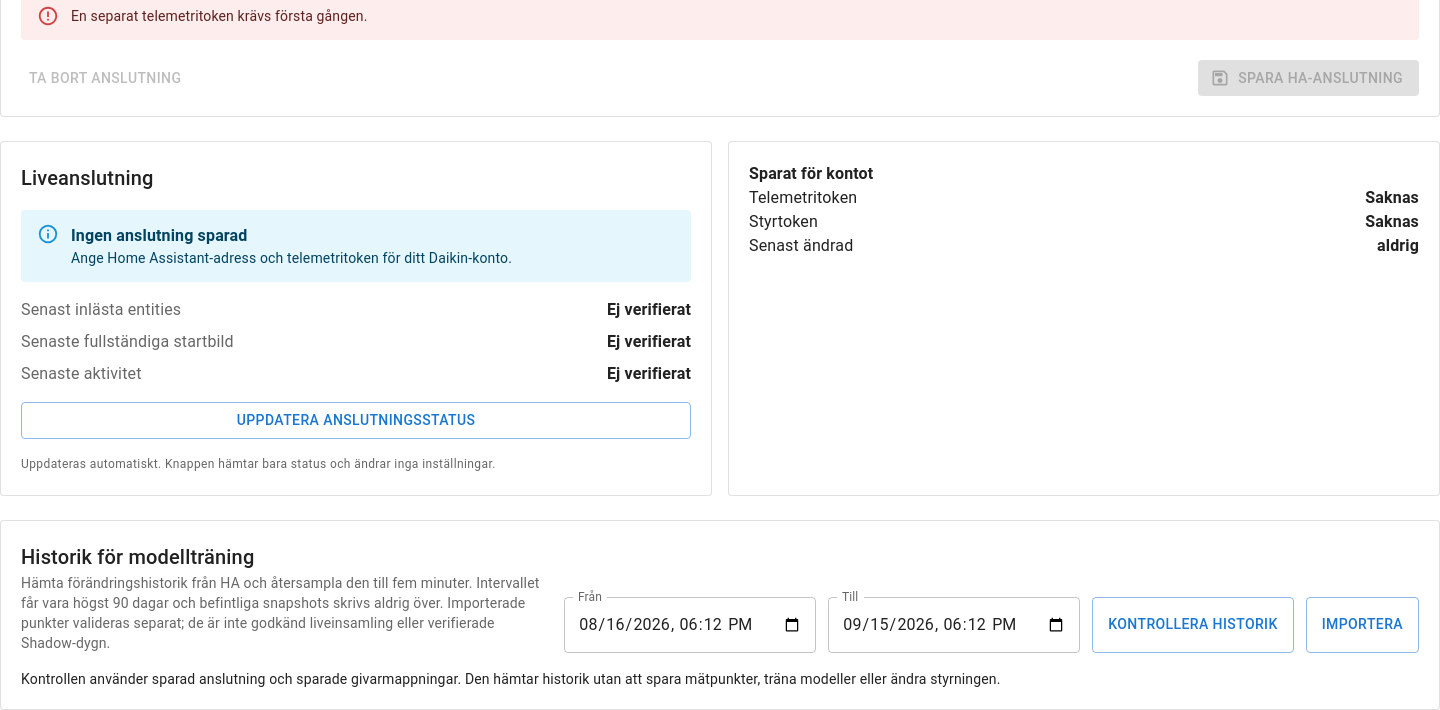
Test case: HomeAssistantConnectionPanel › visar datakvalitet per givare utan att utlova en godkänd modell och återanvänder inte gamla resultat efter ommontering
(page scrolled)
Check: the text "Giltiga: 3. Osäker rapportålder: 7" is not shown
Click the button "Kontrollera historik" at (1193, 625), box [1092,597,1294,653]
(page scrolled)
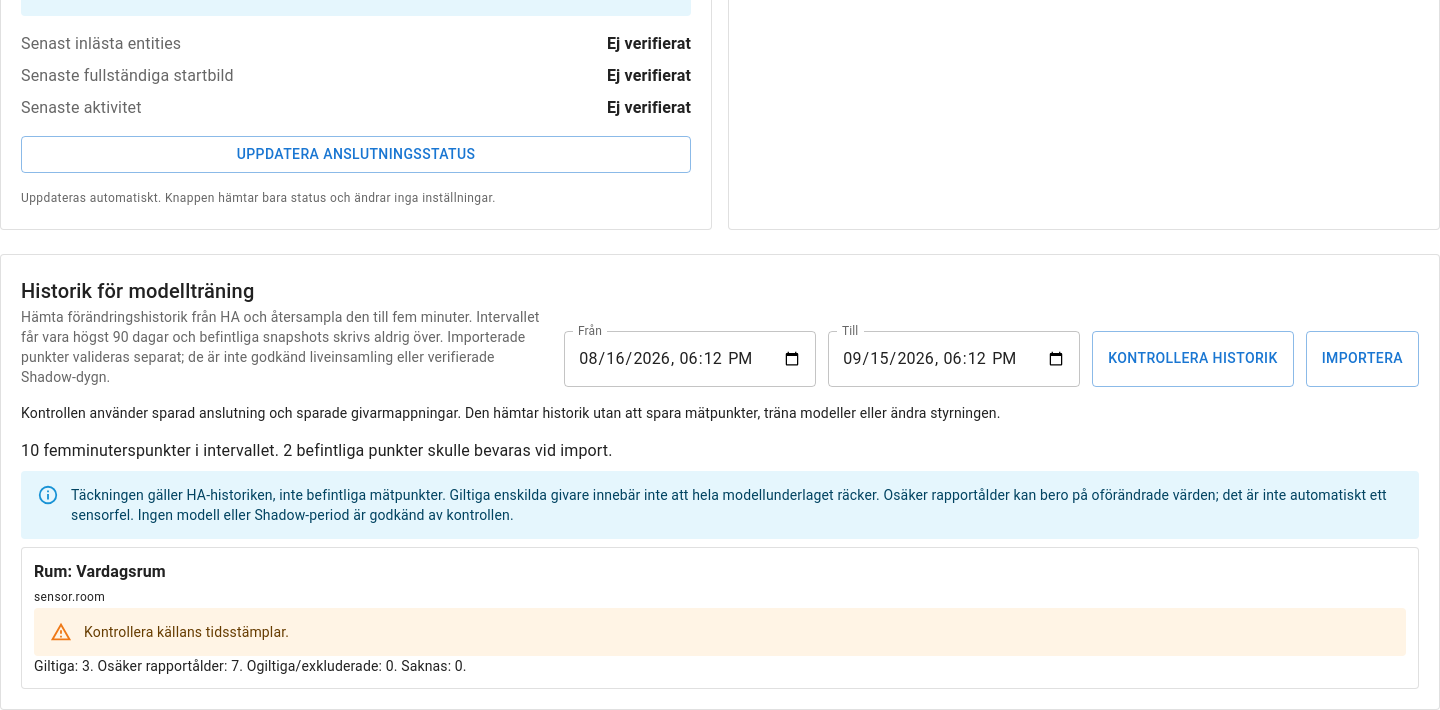
Check: the text "Giltiga: 3. Osäker rapportålder: 7" is shown, box [34,658,467,674]
Check: the text "Ingen modell eller Shadow-period är godkänd" is shown, box [71,487,1387,523]
Check: the text "Kontrollera källans tidsstämplar." is shown, box [84,624,289,640]
